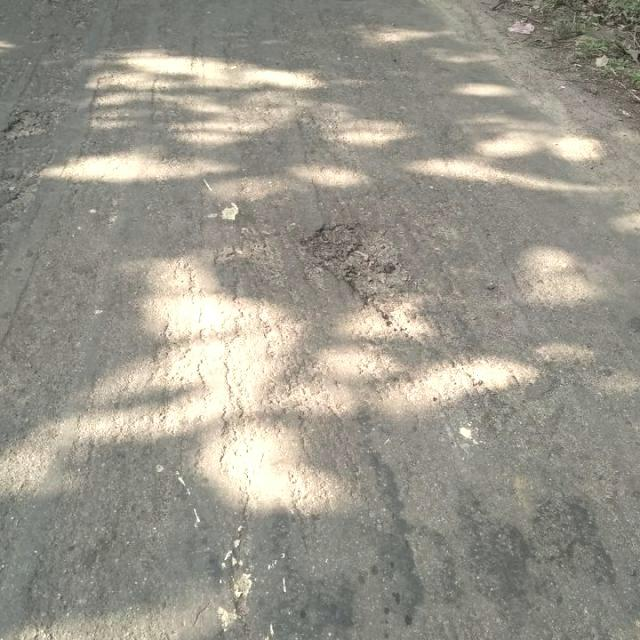Pothole: (299, 218, 415, 340), (1, 107, 52, 142)
